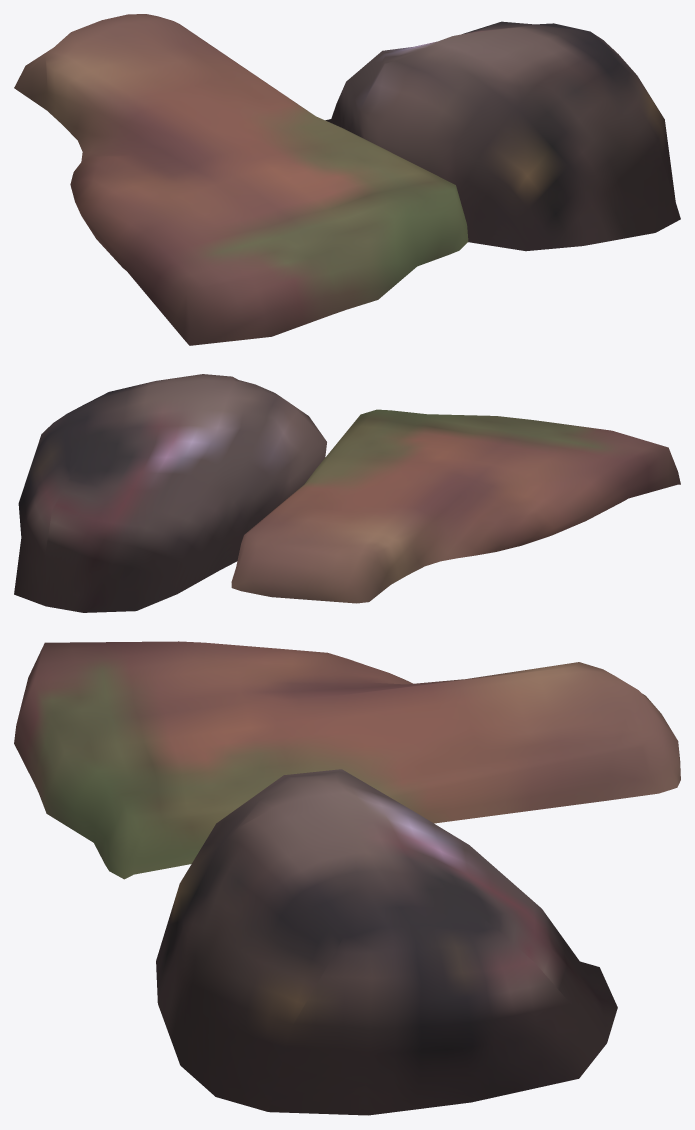
The model's file is Beach_Rocks_3.glb.
The picture shows the model from 3 angles, top to bottom: view 1: azimuth 30°, elevation 25°; view 2: azimuth 150°, elevation 25°; view 3: azimuth 270°, elevation 25°; orthographic projection. The views are drawn at different scales.
Parts seen in each view (by area): view 1: Object_2.034; view 2: Object_2.034; view 3: Object_2.034.
Part boxes in pixels (<box>): Object_2.034: <box>14,14,680,345</box>; Object_2.034: <box>14,374,680,612</box>; Object_2.034: <box>14,641,680,1115</box>.
Size of the model in its own units: 6.02 by 1.81 by 5.12.
Materials: 1 (1 with a texture image).
